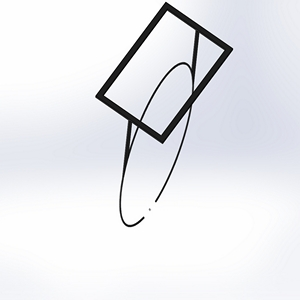circle: (92, 2, 234, 230)
